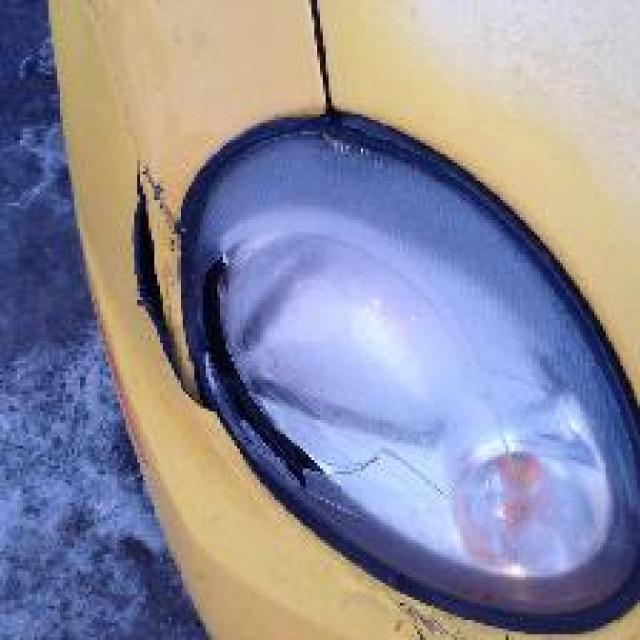head_lamp_minor: (137, 171, 374, 483)
